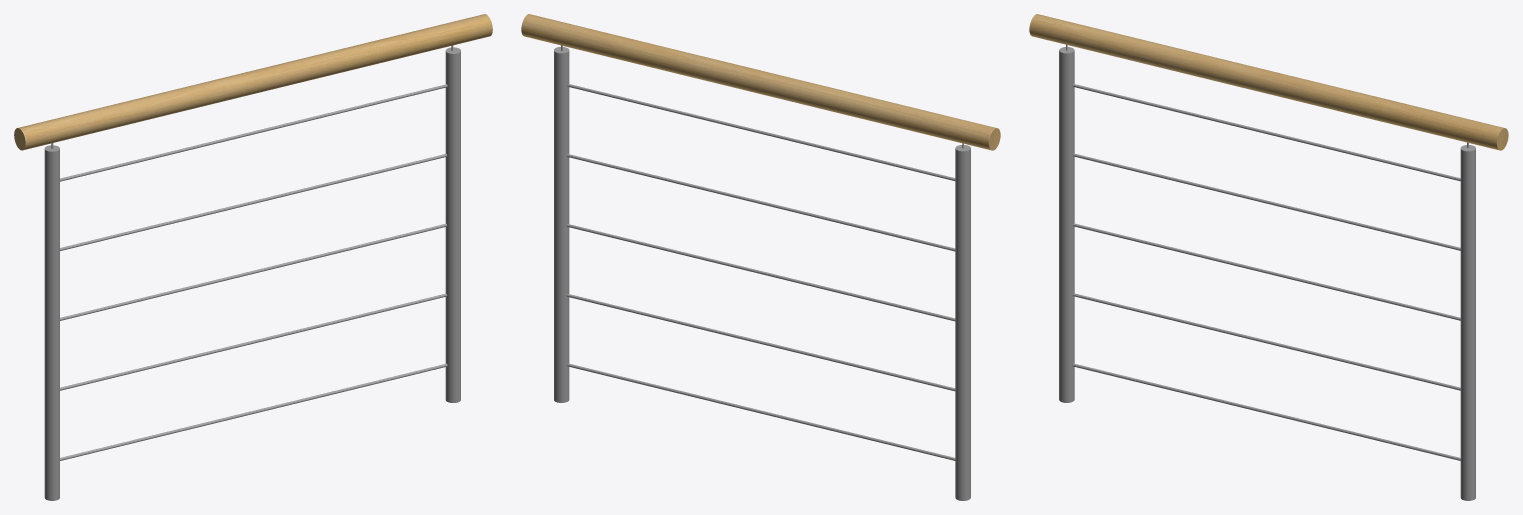
The model's file is gardeCorps.obj.
3 renders of one model, left to right at view 1: azimuth 30°, elevation 25°; view 2: azimuth 150°, elevation 25°; view 3: azimuth 330°, elevation 25°, orthographic.
Parts seen in each view (by area): view 1: Cylinder_23_2_2, Cylinder32_3_3_3, Cylinder32_9_1_1; view 2: Cylinder_23_2_2, Cylinder32_3_3_3, Cylinder32_9_1_1; view 3: Cylinder_23_2_2, Cylinder32_3_3_3, Cylinder32_9_1_1.
Part boxes in pixels (x1=…): Cylinder_23_2_2: x1=14, y1=14, x2=492, y2=150; Cylinder32_3_3_3: x1=44, y1=47, x2=460, y2=500; Cylinder32_9_1_1: x1=60, y1=84, x2=447, y2=460; Cylinder_23_2_2: x1=521, y1=14, x2=1000, y2=150; Cylinder32_3_3_3: x1=554, y1=47, x2=970, y2=500; Cylinder32_9_1_1: x1=566, y1=84, x2=955, y2=460; Cylinder_23_2_2: x1=1029, y1=14, x2=1508, y2=150; Cylinder32_3_3_3: x1=1059, y1=47, x2=1475, y2=500; Cylinder32_9_1_1: x1=1072, y1=84, x2=1460, y2=460.
Size of the model in its own units: 140 by 108 by 6.
